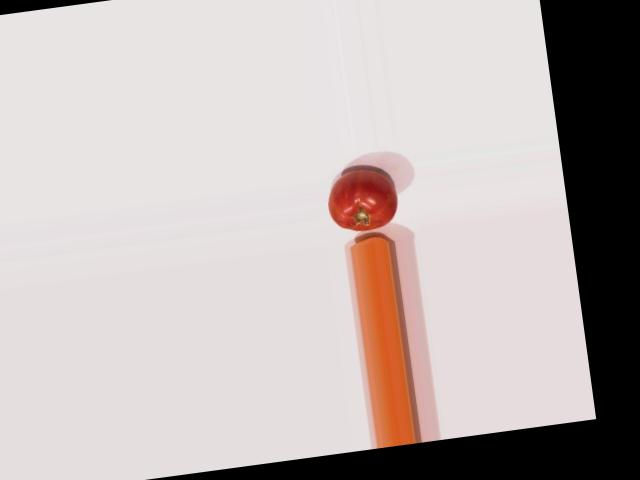tomato: (323, 165, 399, 234)
